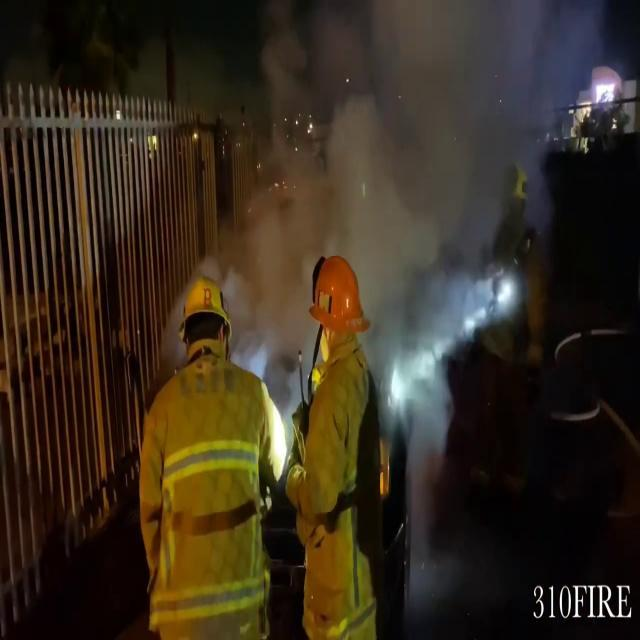Smoke: (230, 0, 536, 396)
